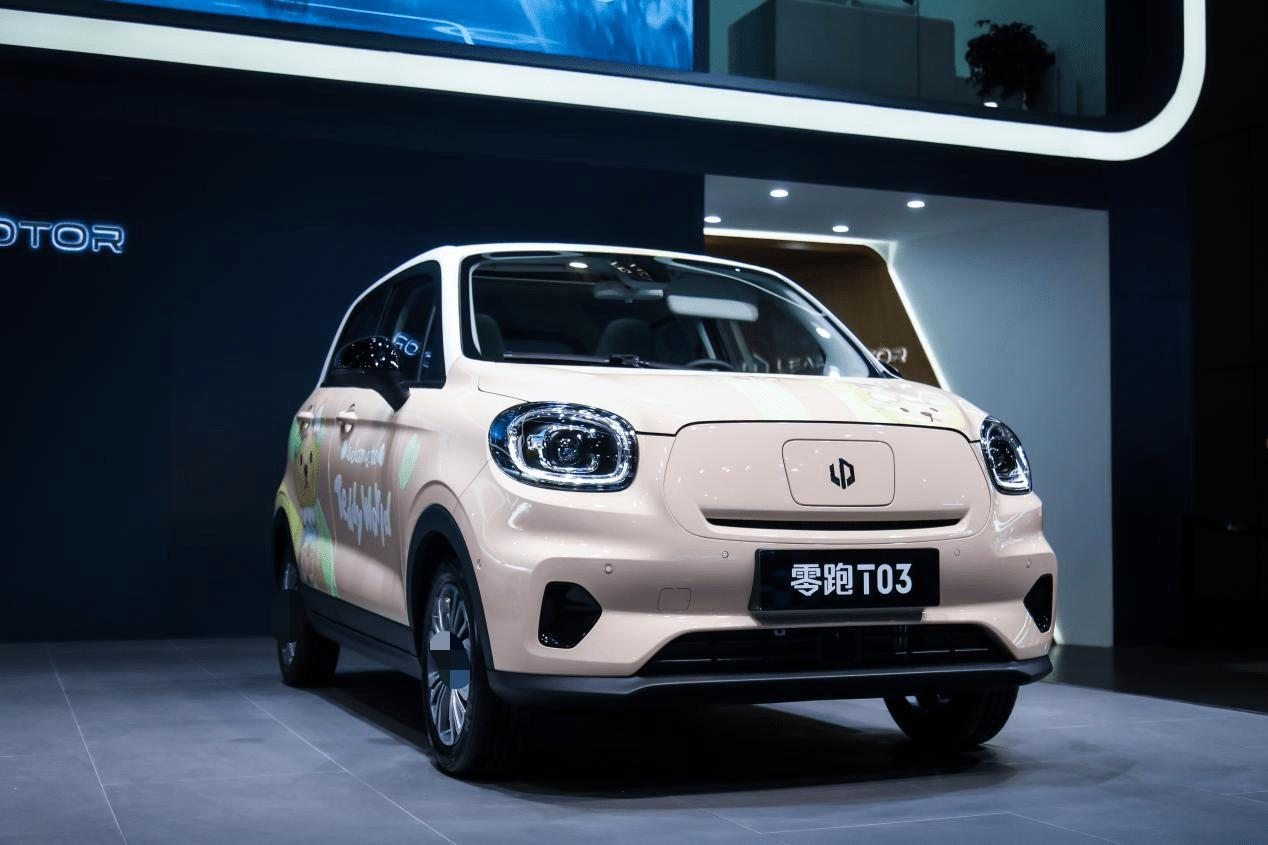LEAPMOTOR: (830, 457, 855, 491)
